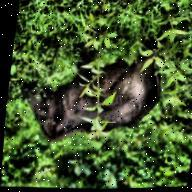boar: (10, 25, 184, 154)
